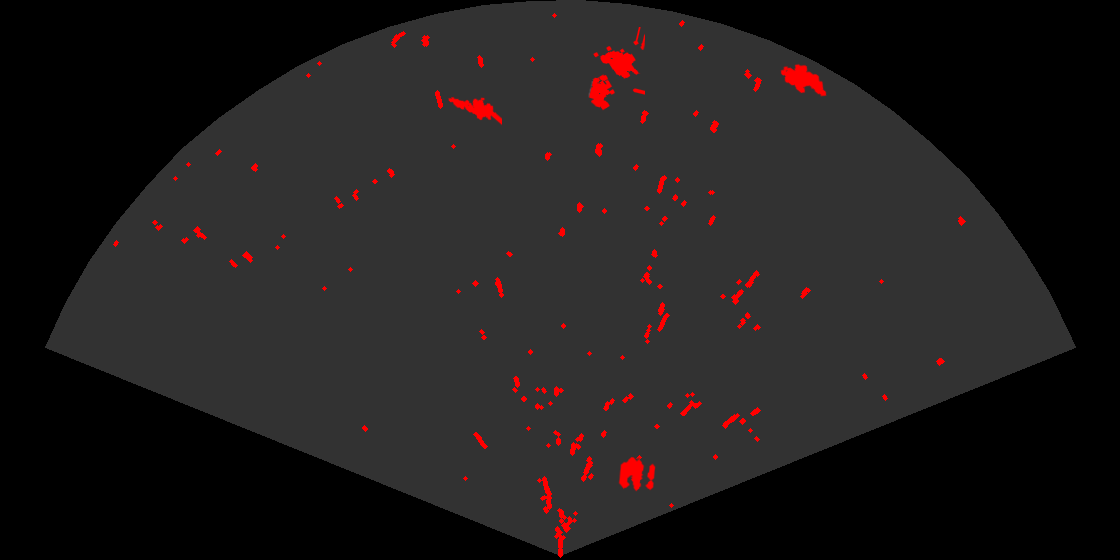AUV: (779, 62, 828, 98)
ball: (617, 455, 657, 493)
cage: (588, 27, 645, 112)
frogman: (446, 95, 502, 127)
